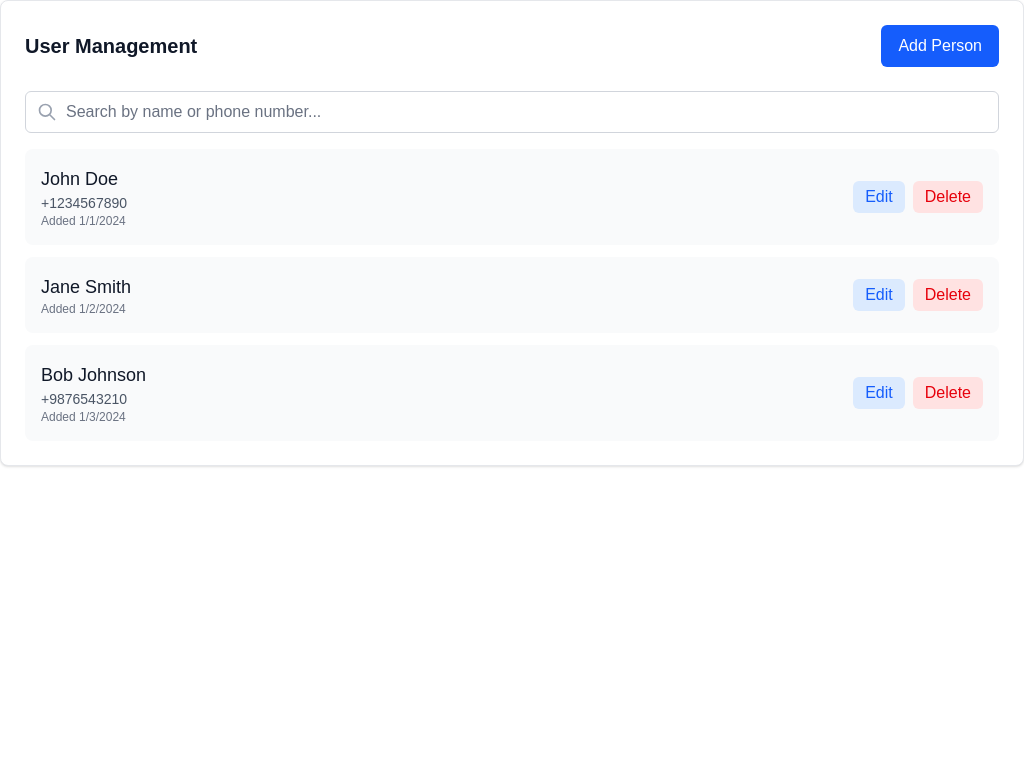
Test: UserManagement › Add Person Modal › closes modal on X button click
The image size is (1024, 768).
Step 1. Click the button "Add Person" → (940,46), box top-left (881, 25), bottom-right (999, 67)
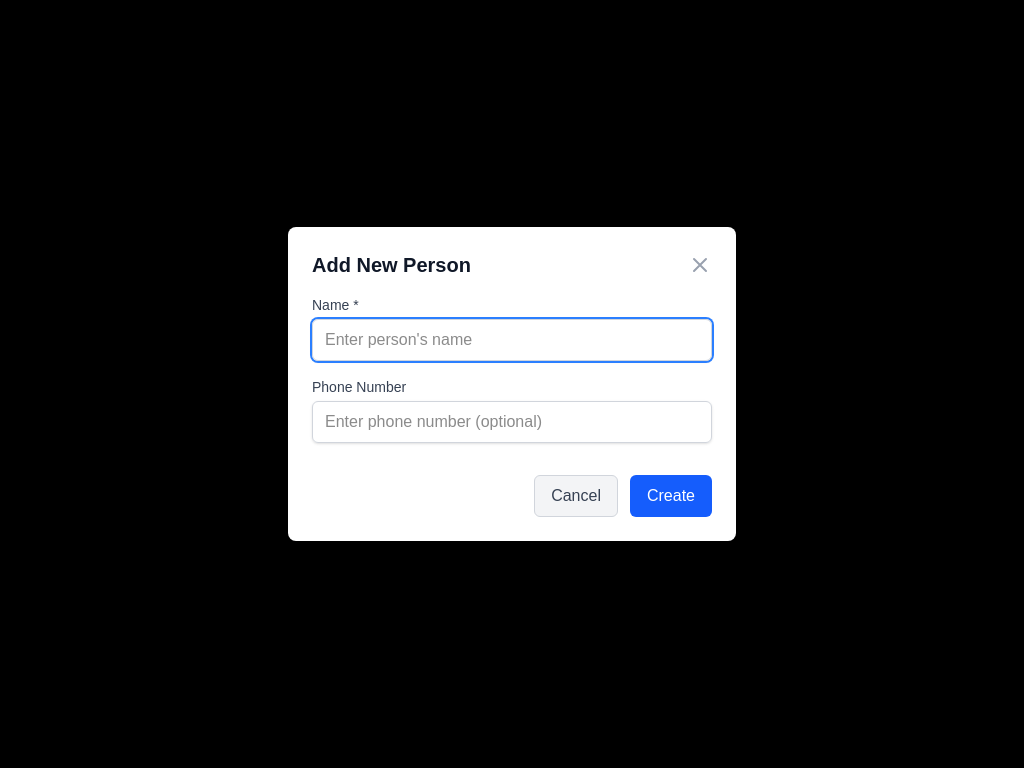
Expected: the heading "Add New Person" is shown, top-left (312, 251), bottom-right (471, 279)
Step 2. Click the 1st button → (700,265), box top-left (688, 253), bottom-right (712, 277)
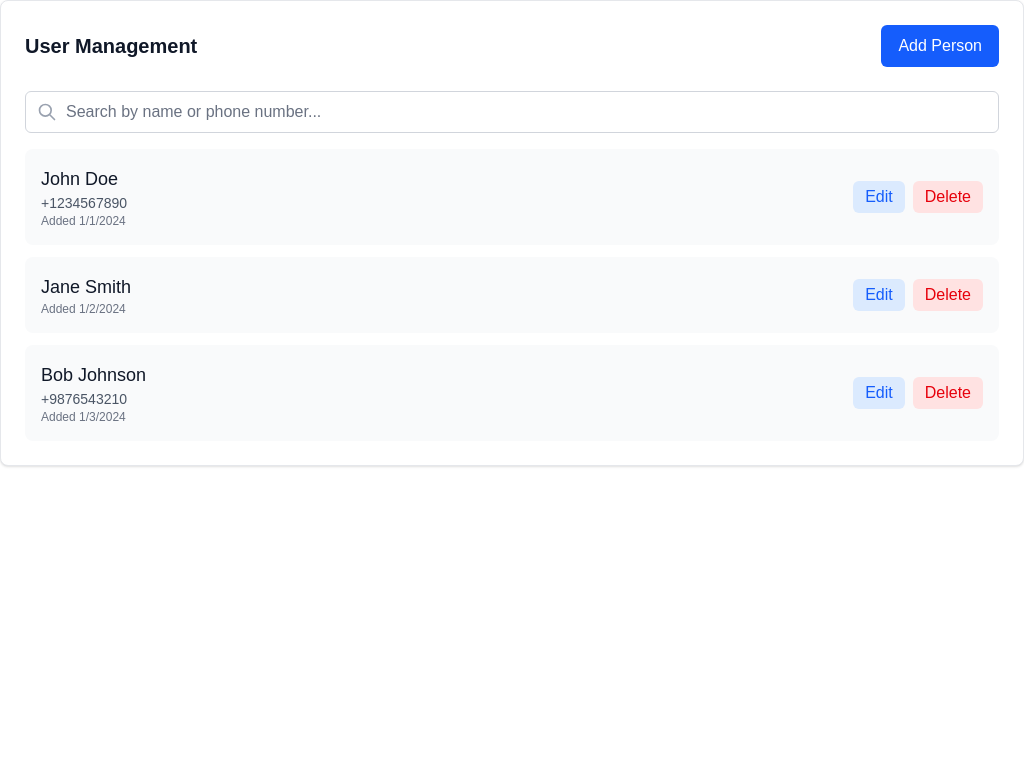
Expected: the heading "Add New Person" is gone
